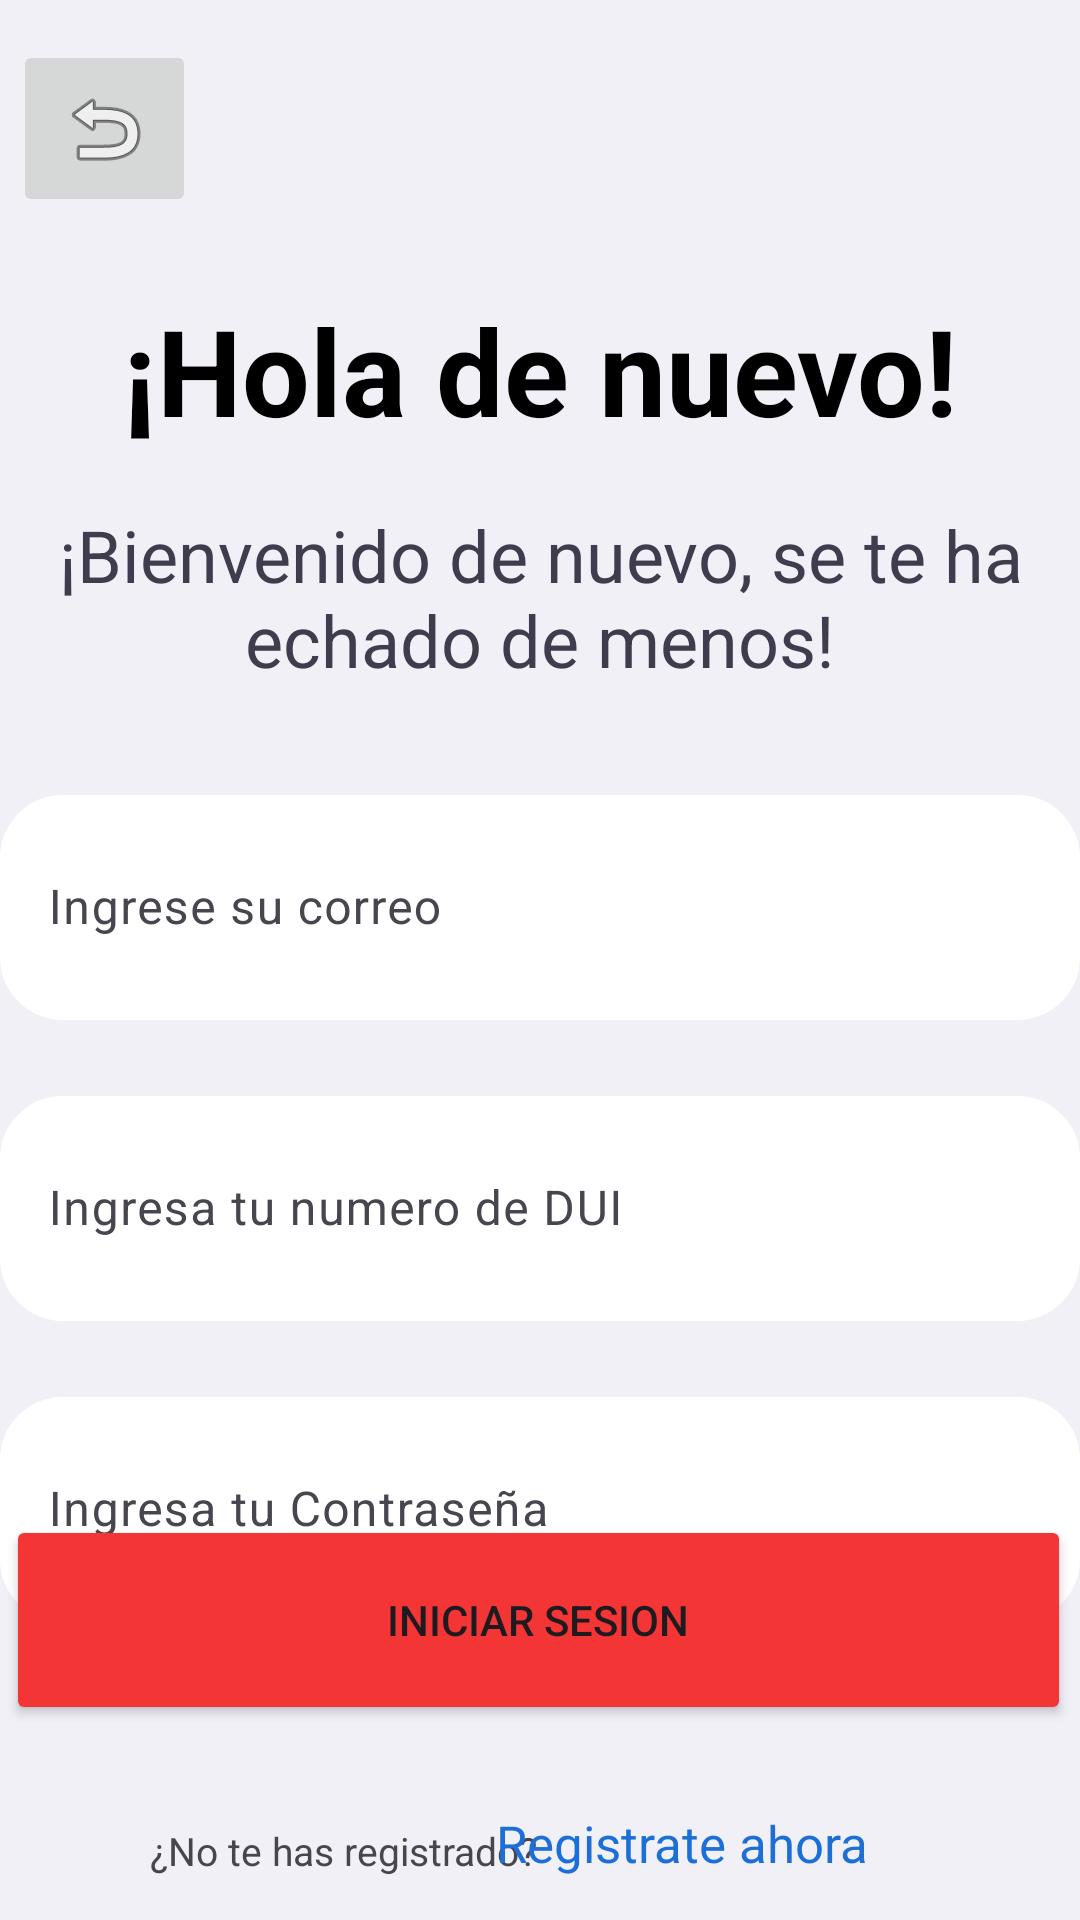

Named icons in this screenshot (1080px×1920px) and their centers, [x,y]:
revert: [104,128]
